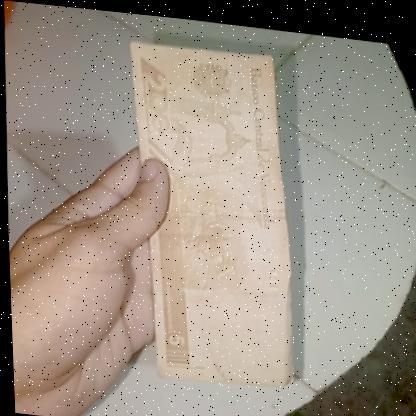five-back-vef: (124, 34, 296, 389)
